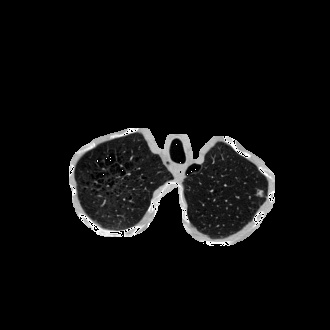PN: (257, 190, 263, 196)
